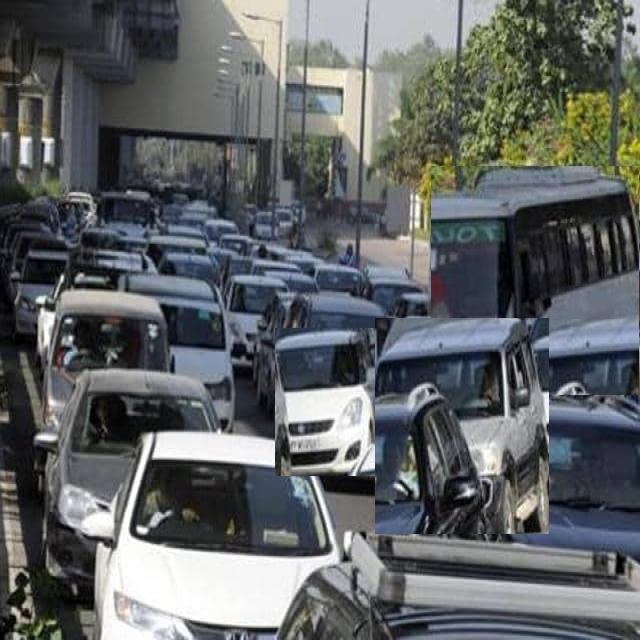bus: (431, 166, 640, 395)
car: (81, 432, 339, 639), (34, 370, 218, 597), (375, 319, 549, 534), (119, 277, 235, 431), (275, 328, 391, 476)
